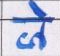o_matra: (35, 4, 48, 48)
